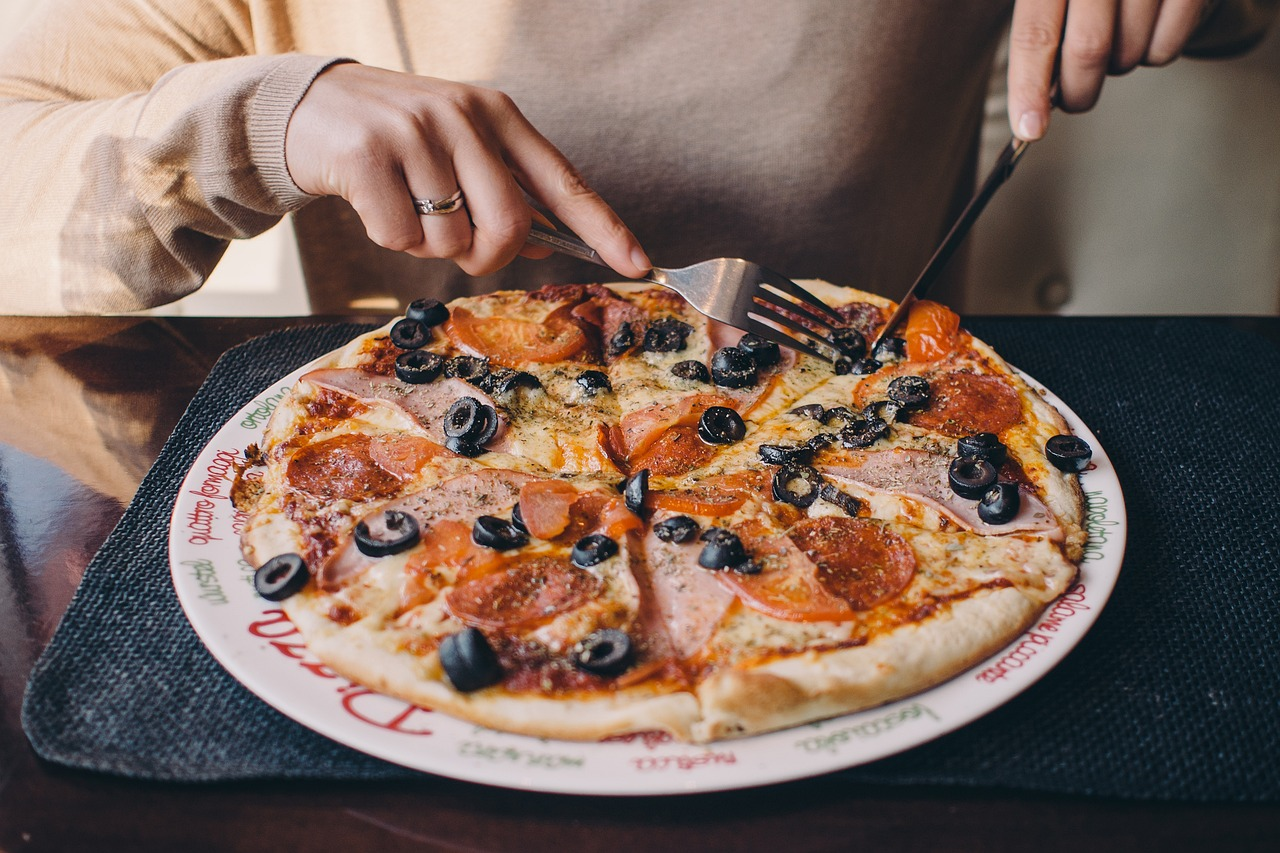knife: (847, 0, 1160, 389)
